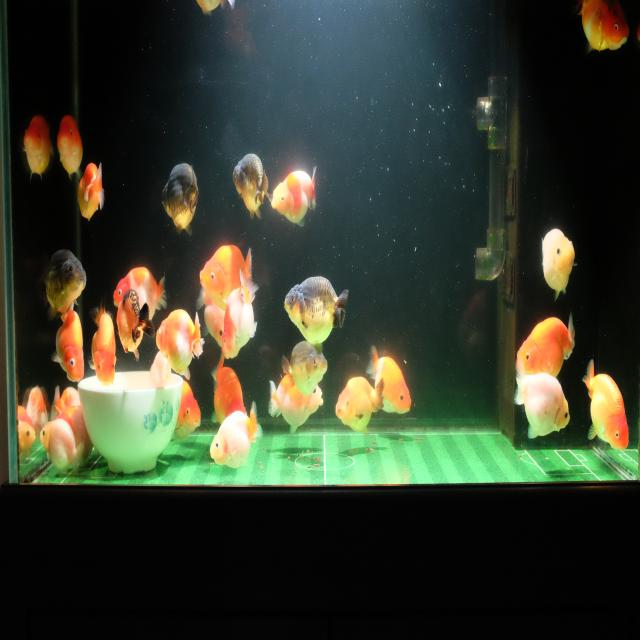Tilapia: (283, 273, 349, 357), (512, 362, 572, 440), (582, 358, 630, 453), (515, 308, 576, 380), (208, 399, 264, 470), (198, 242, 254, 312), (221, 267, 260, 362), (40, 245, 87, 323), (364, 342, 412, 418), (268, 372, 324, 436), (156, 306, 204, 377), (112, 262, 168, 322), (161, 157, 200, 241), (50, 296, 86, 386), (334, 375, 385, 438), (271, 162, 318, 230), (576, 1, 632, 57), (280, 338, 330, 399), (116, 286, 156, 362), (232, 150, 273, 222), (38, 416, 84, 478), (210, 352, 248, 426), (540, 227, 577, 301), (88, 300, 118, 391), (52, 405, 94, 464), (20, 111, 52, 186), (171, 378, 201, 446), (195, 281, 225, 348), (54, 112, 84, 179), (76, 157, 105, 225), (25, 381, 49, 436), (51, 388, 82, 420), (18, 416, 36, 460)
